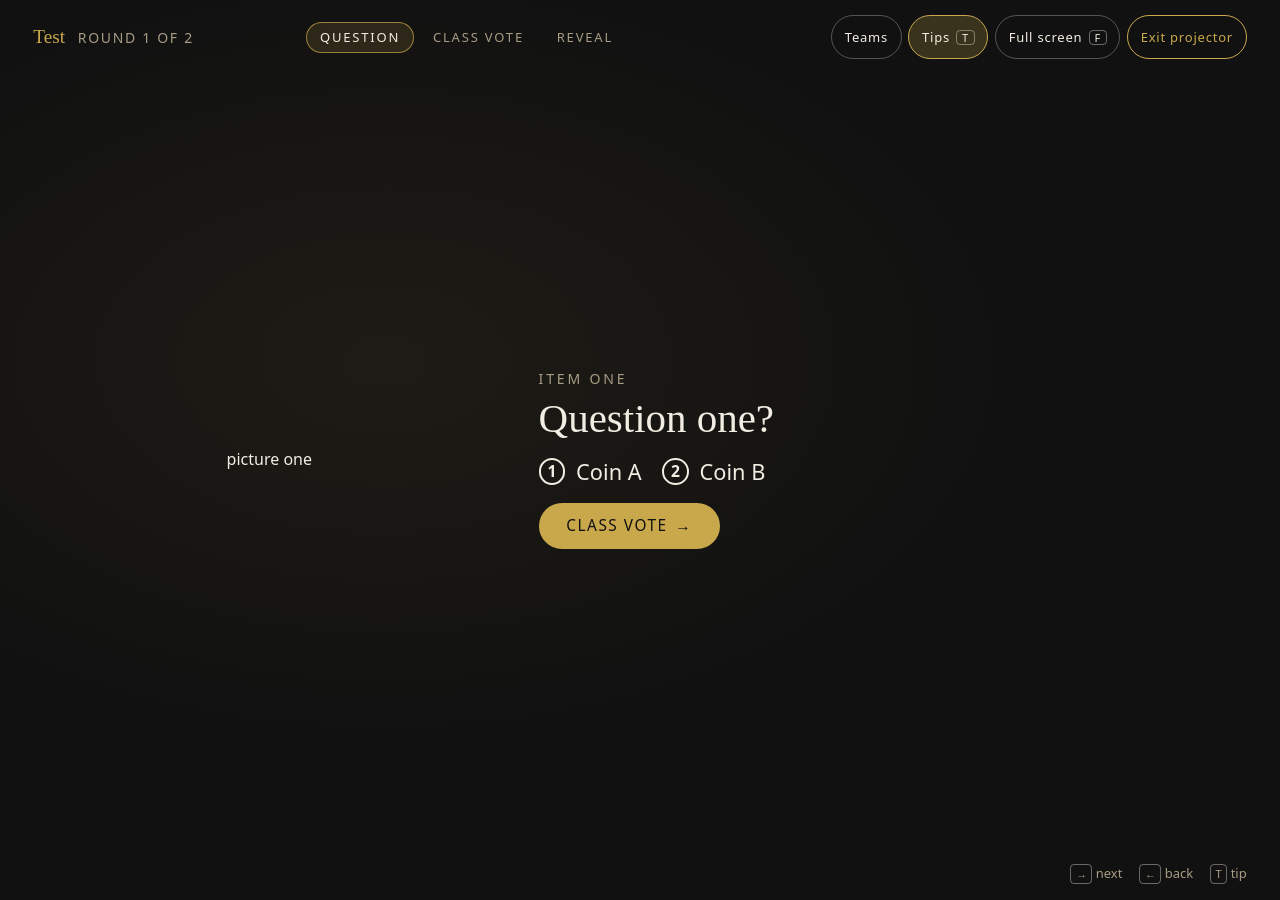
it: ProjectorStage › counts down in whole seconds, can be extended, and leaves the reveal to the teacher
The width and height of the screenshot is (1280, 900).
Press ArrowRight
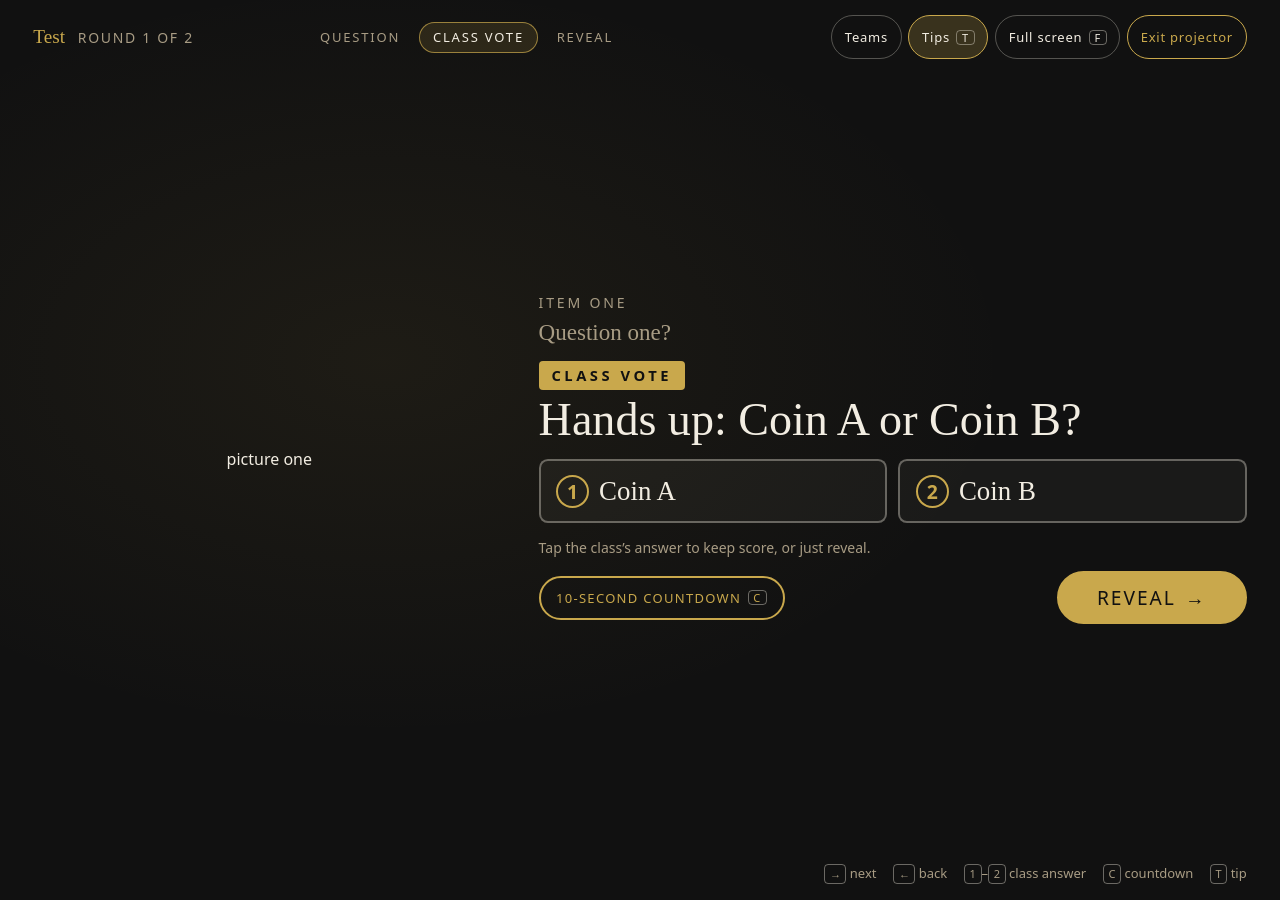
Press c
Wait 3000 ms
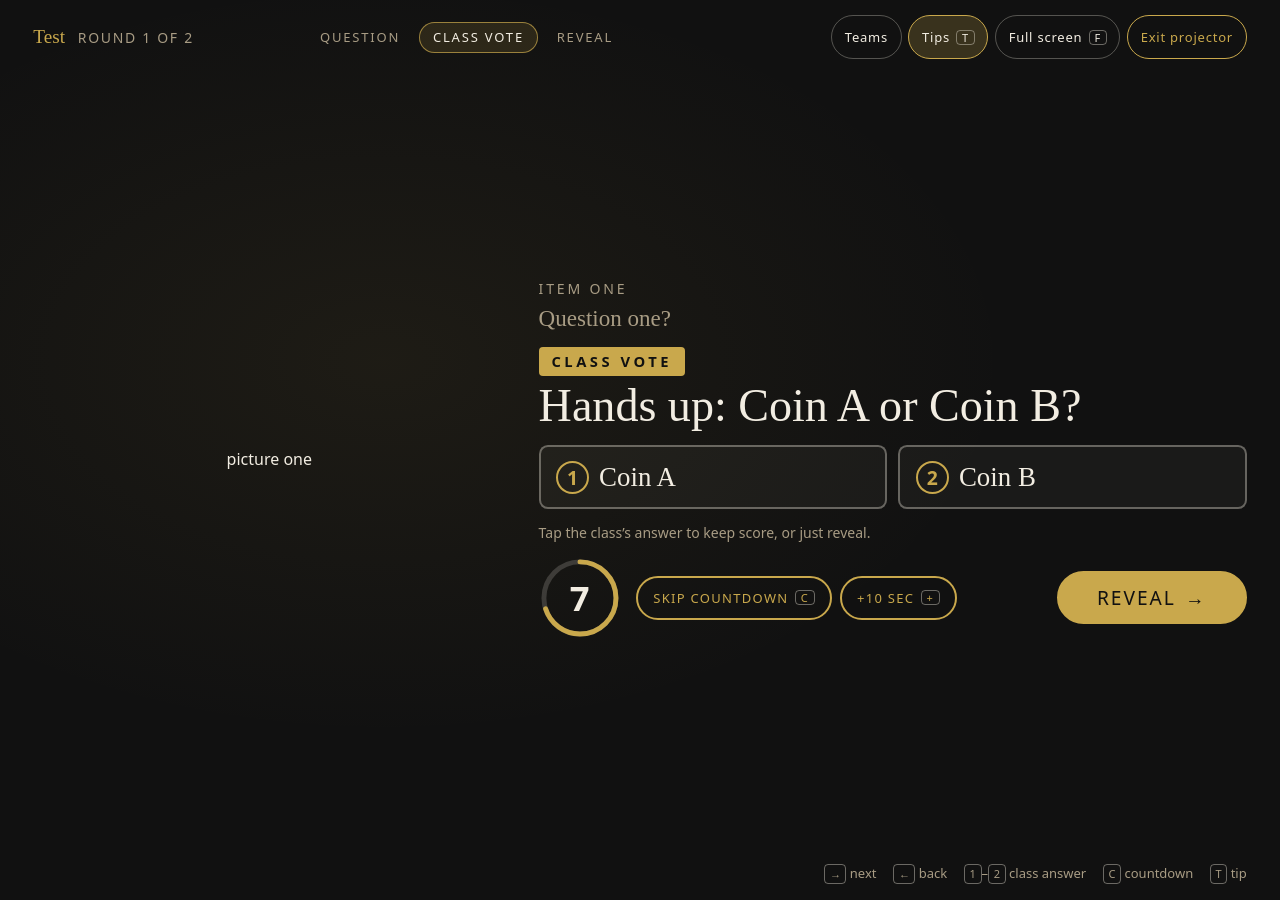
Check: the text "7" is shown, box left=570, top=574, right=590, bottom=621
Click the button "+10 sec +" at x=898, y=598, box left=840, top=576, right=957, bottom=620
Wait 20000 ms
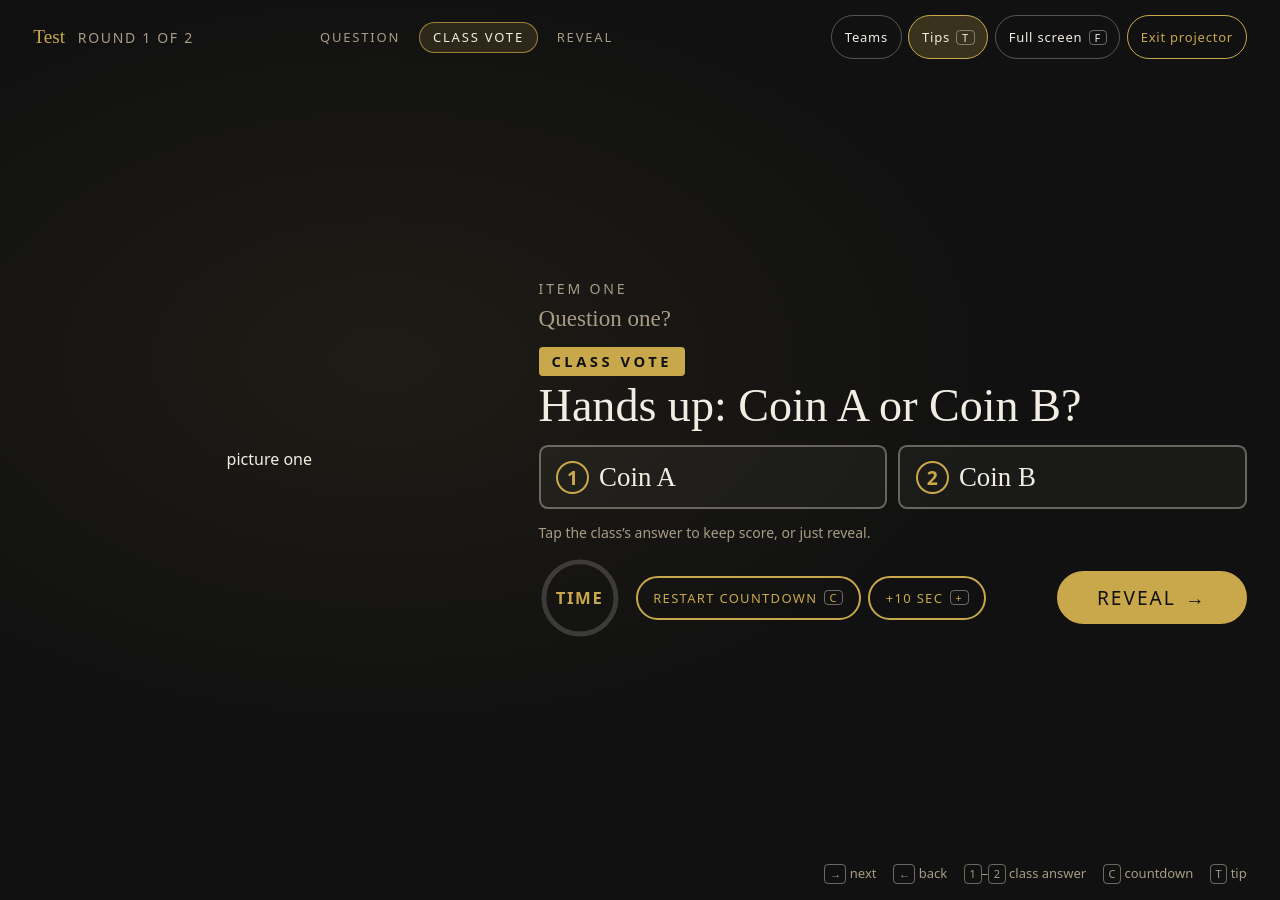
Check: the heading "Class vote Hands up: Coin A or Coin B?" is shown, box left=539, top=347, right=1081, bottom=431
Check: the text "Time" is shown, box left=556, top=586, right=604, bottom=609
Click the button "Reveal →" at x=1152, y=598, box left=1057, top=571, right=1247, bottom=624
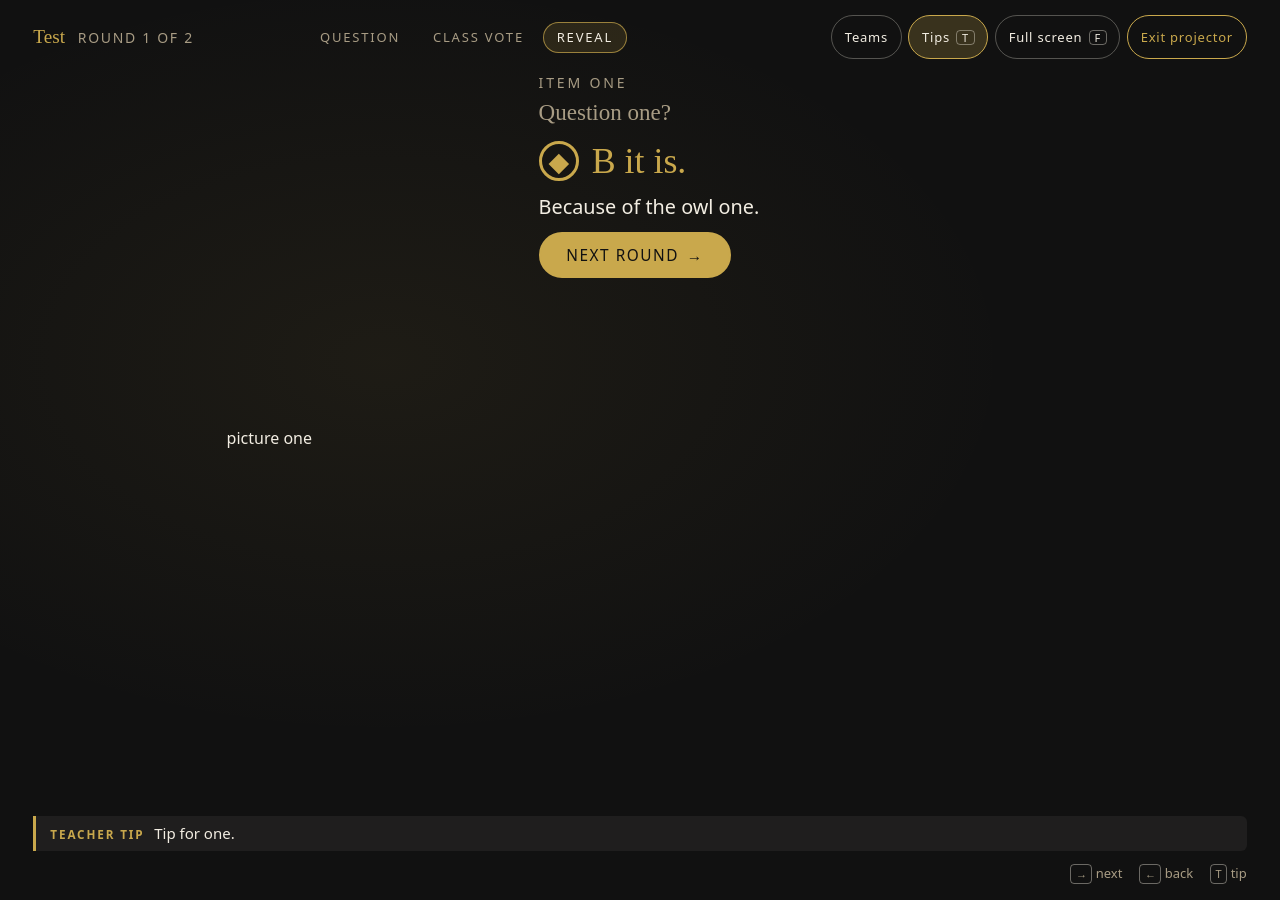
Check: the heading "◆ B it is." is shown, box left=539, top=141, right=686, bottom=182
